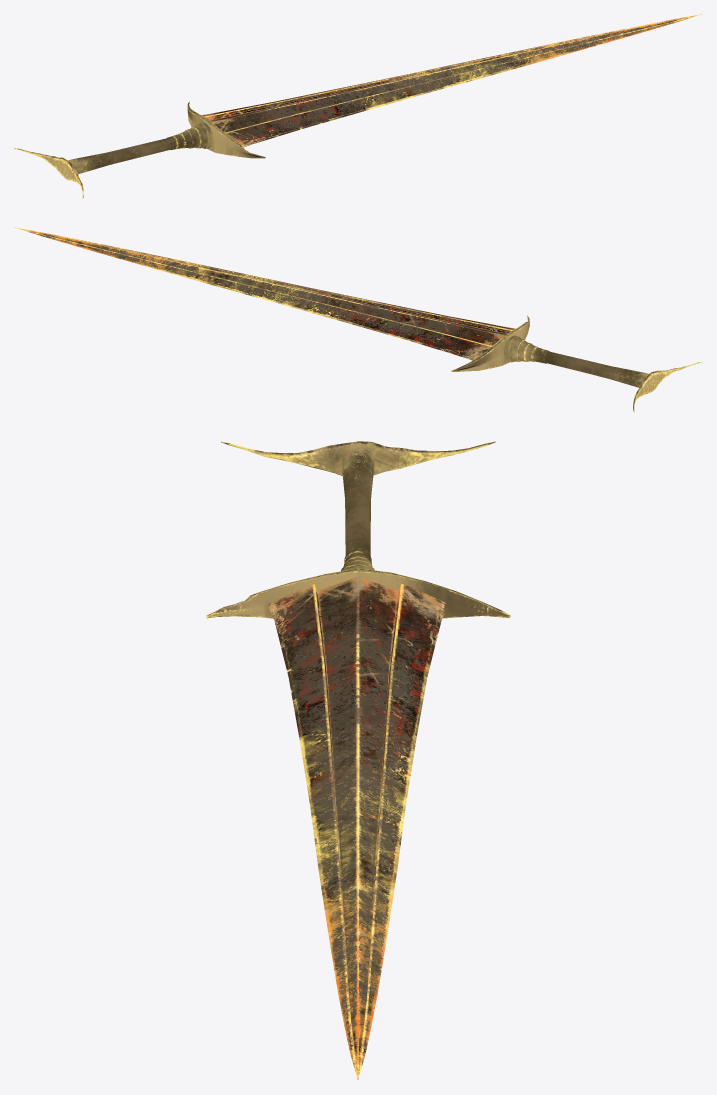
File: ka_pd_gog.glb
3 views of the same model, one above another, from view 1: azimuth 30°, elevation 25°; view 2: azimuth 150°, elevation 25°; view 3: azimuth 270°, elevation 25° (orthographic). The views are drawn at different scales.
Visible parts, largest first — view 1: gog; view 2: gog; view 3: gog.
Boxes of the visible parts, x1,y1,x2,y2 form: gog: [14, 14, 701, 198]; gog: [15, 227, 702, 412]; gog: [206, 441, 510, 1079].
Size of the model in its own units: 90.04 by 3.76 by 18.11.
1 material, 1 textured.
